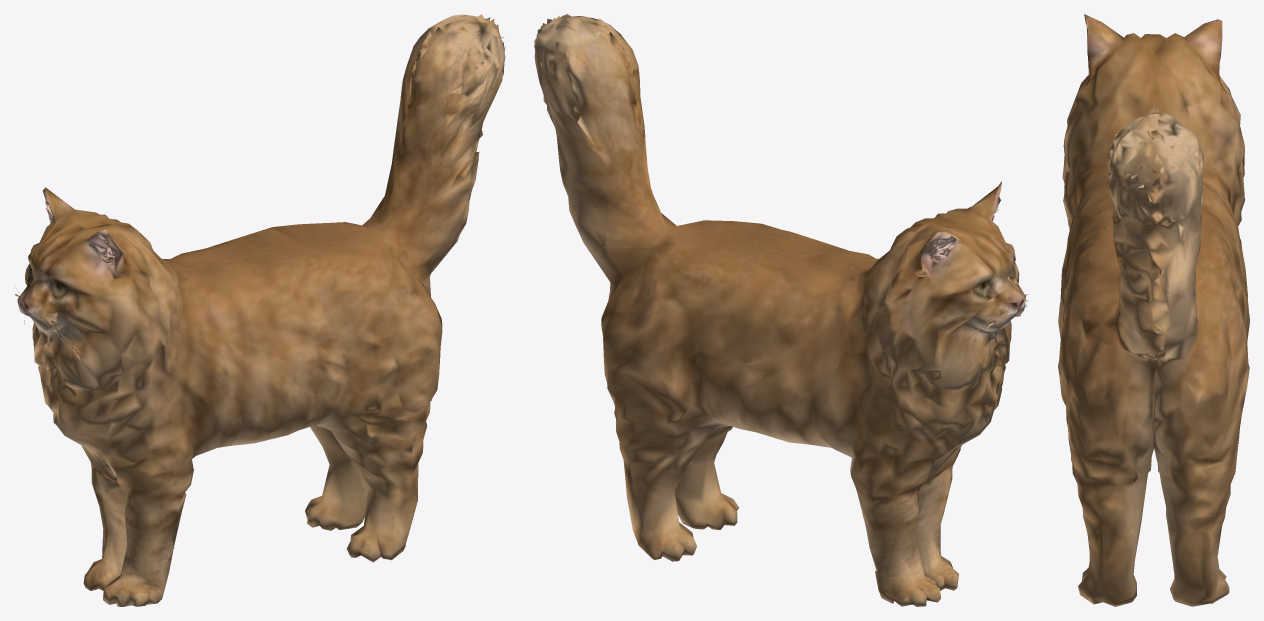
The model's file is CHIKUWACAT-lo.glb.
3 renders of one model, left to right at view 1: azimuth 30°, elevation 25°; view 2: azimuth 150°, elevation 25°; view 3: azimuth 270°, elevation 25°, orthographic. The views are drawn at different scales.
Visible parts, largest first — view 1: tripo_node_aca065ca-25c6-441f-b045-b267ff4c9d62; view 2: tripo_node_aca065ca-25c6-441f-b045-b267ff4c9d62; view 3: tripo_node_aca065ca-25c6-441f-b045-b267ff4c9d62.
Boxes of the visible parts, x1,y1,x2,y2 form: tripo_node_aca065ca-25c6-441f-b045-b267ff4c9d62: (15, 14, 505, 606); tripo_node_aca065ca-25c6-441f-b045-b267ff4c9d62: (534, 14, 1028, 606); tripo_node_aca065ca-25c6-441f-b045-b267ff4c9d62: (1058, 14, 1249, 606).
Size of the model in its own units: 1.02 by 0.9943 by 0.3231.
1 material, 1 textured.
